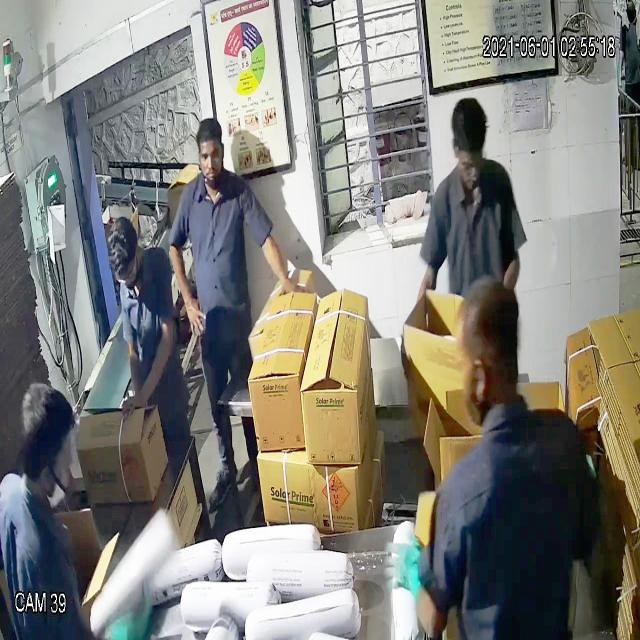glasses: (108, 253, 138, 291)
